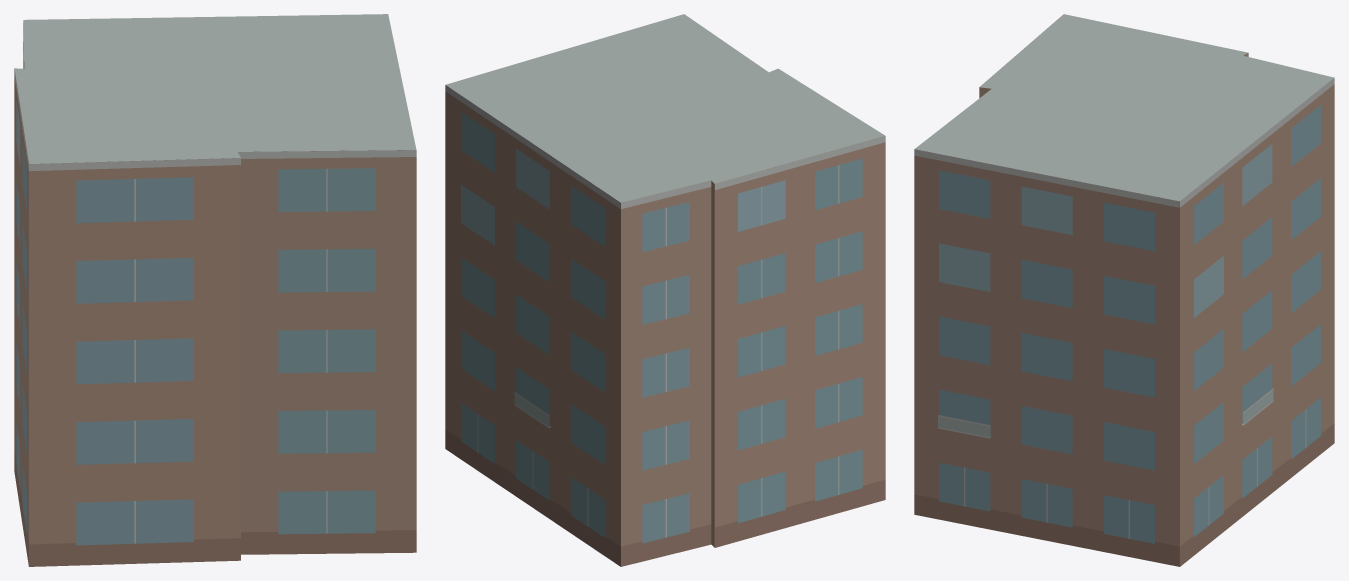
The model's file is survey-upis-32956873.glb.
3 views of the same model, side by side, from view 1: azimuth 30°, elevation 25°; view 2: azimuth 150°, elevation 25°; view 3: azimuth 270°, elevation 25° (orthographic). The views are drawn at different scales.
Visible parts, largest first — view 1: survey-upis-32956873.tmp; view 2: survey-upis-32956873.tmp; view 3: survey-upis-32956873.tmp.
Part boxes in pixels (x1,y1,x2,y2): survey-upis-32956873.tmp: (14,14,416,566); survey-upis-32956873.tmp: (445,14,885,566); survey-upis-32956873.tmp: (914,14,1334,566).
Bounding box in the file's own units: 15.29 × 13.9 × 14.49.
